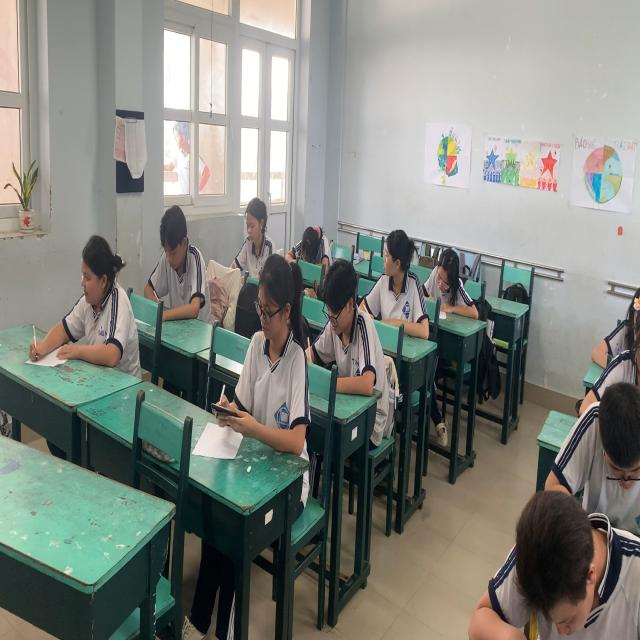cheating: (378, 225, 422, 328)
not_cheating: (234, 253, 312, 459), (312, 249, 378, 401), (70, 228, 132, 360), (146, 205, 201, 311), (230, 177, 284, 256), (431, 249, 464, 308), (298, 210, 331, 266)
